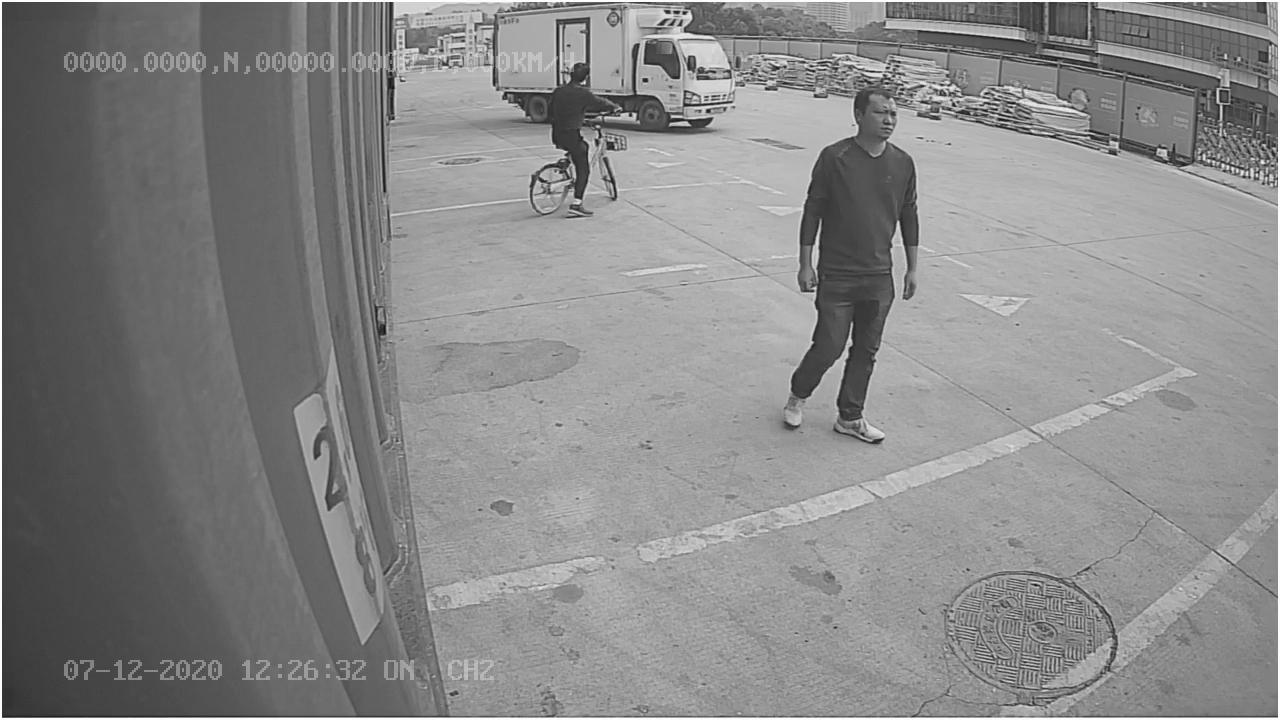person: (773, 86, 925, 451)
